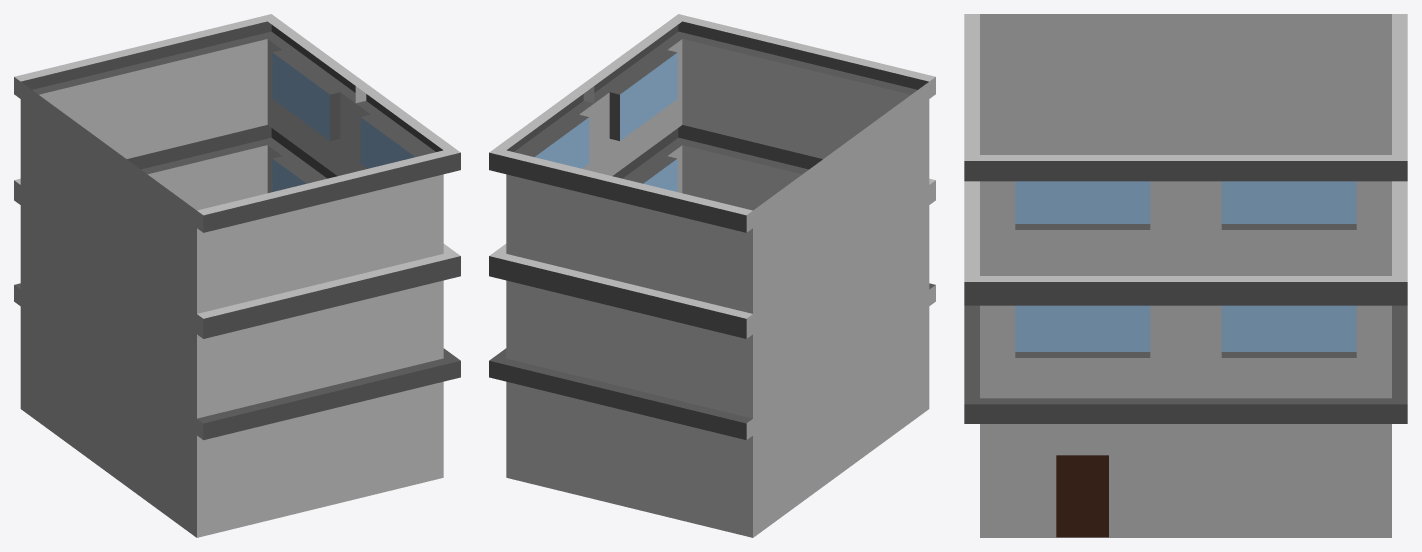
The model's file is greyscale short building 2.fbx.
The picture shows the model from 3 angles, left to right: view 1: azimuth 30°, elevation 25°; view 2: azimuth 150°, elevation 25°; view 3: azimuth 270°, elevation 25°; orthographic projection. The views are drawn at different scales.
Parts seen in each view (by area): view 1: Cube; view 2: Cube; view 3: Cube.
Boxes of the visible parts, x1=… form: Cube: x1=14, y1=14, x2=460, y2=537; Cube: x1=489, y1=14, x2=935, y2=537; Cube: x1=964, y1=14, x2=1407, y2=537.
Bounding box in the file's own units: 209 × 254 × 266.
